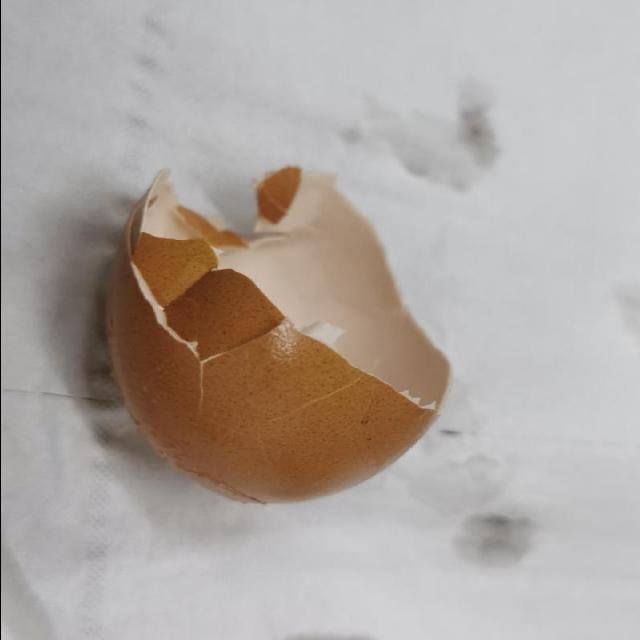egg shell: (108, 159, 454, 511)
